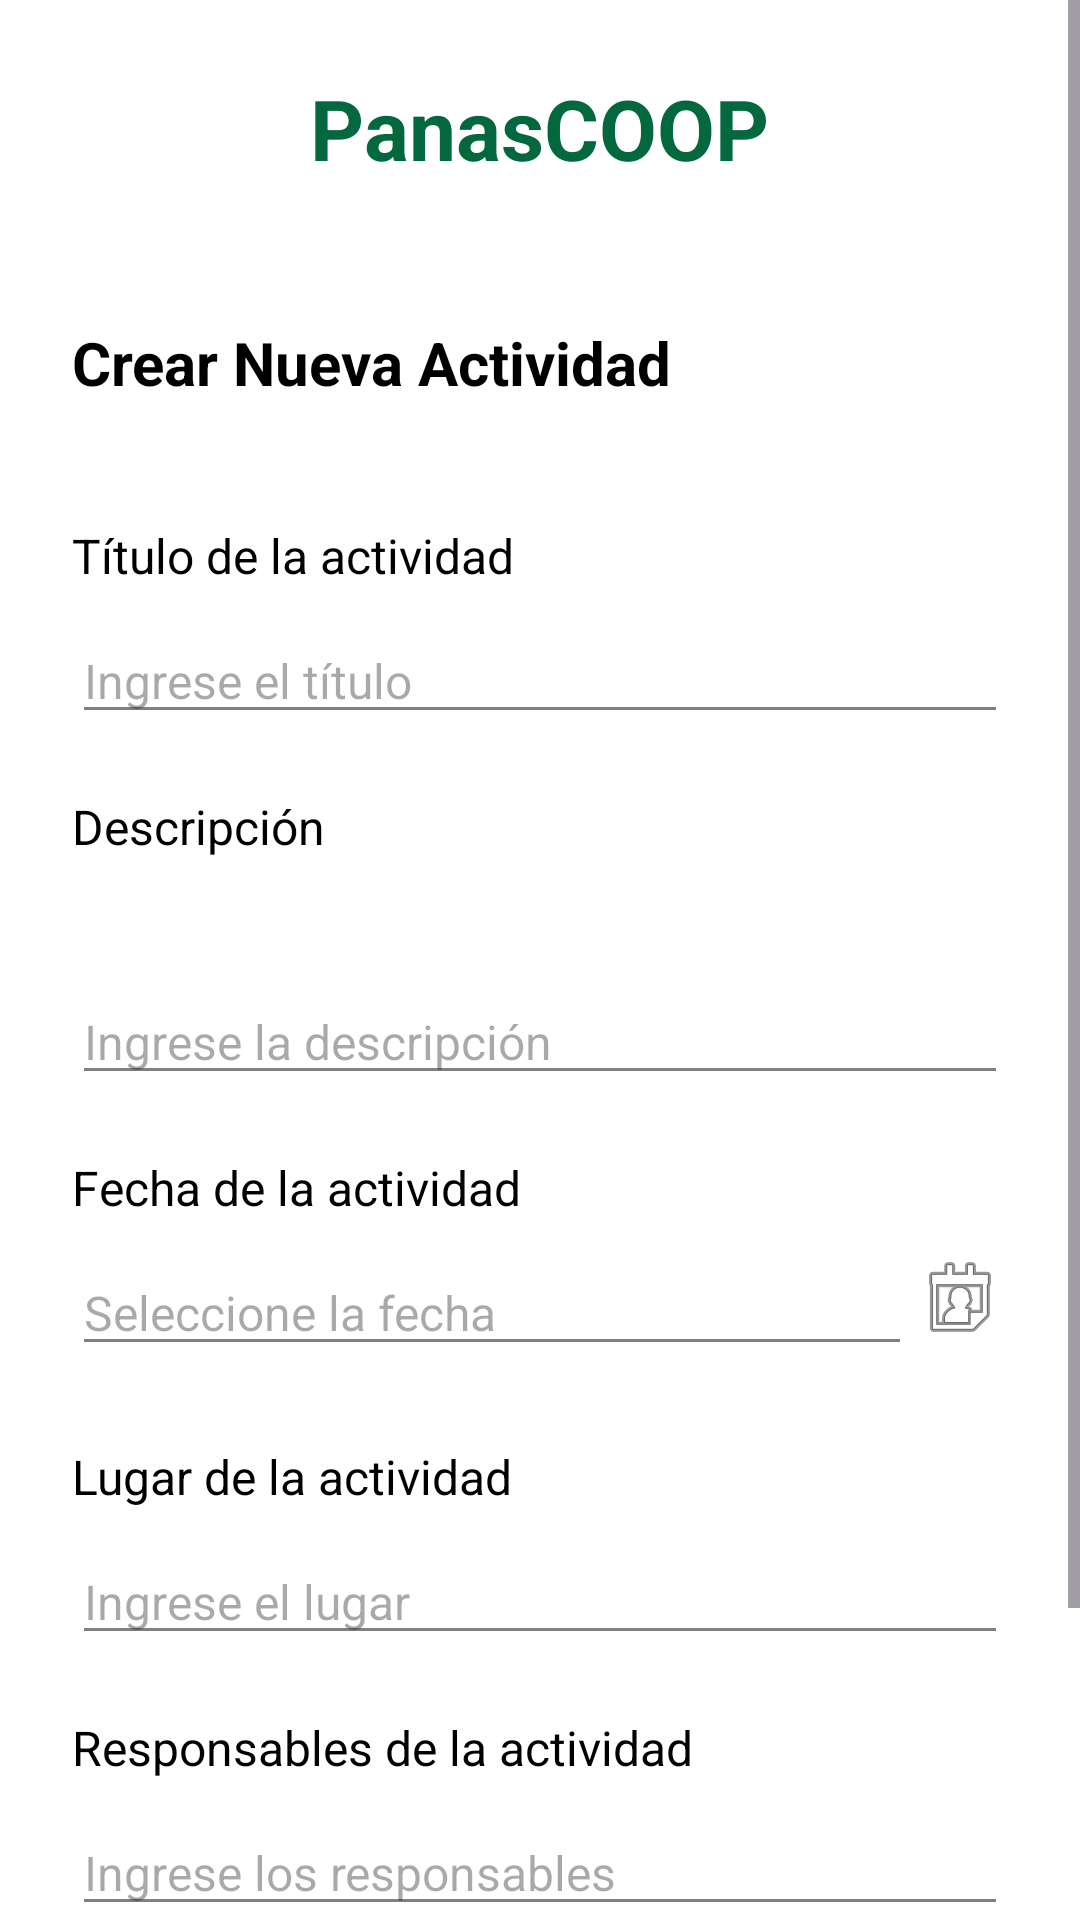

Icon click points for this 1080px x 1920px phone screenshot, format (x,y):
calendar: (960,1297)
